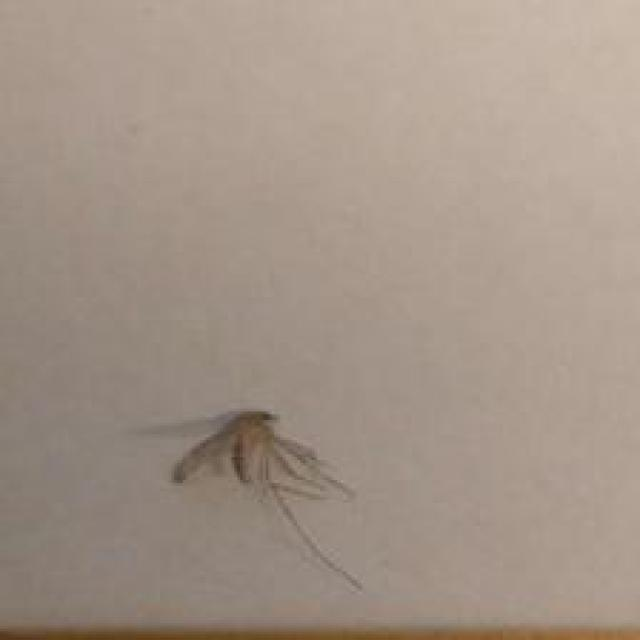Culex: (168, 407, 363, 593)
